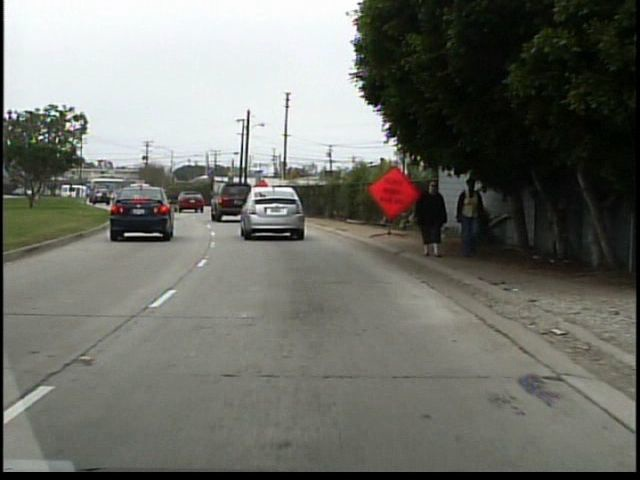person: (408, 176, 448, 260), (451, 174, 487, 259)
